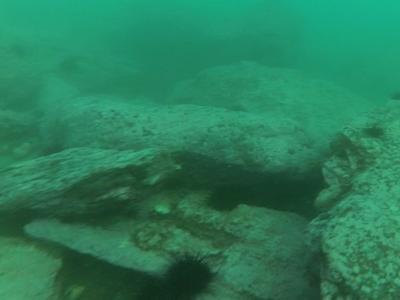urchin: (161, 250, 216, 294), (205, 183, 243, 211)
